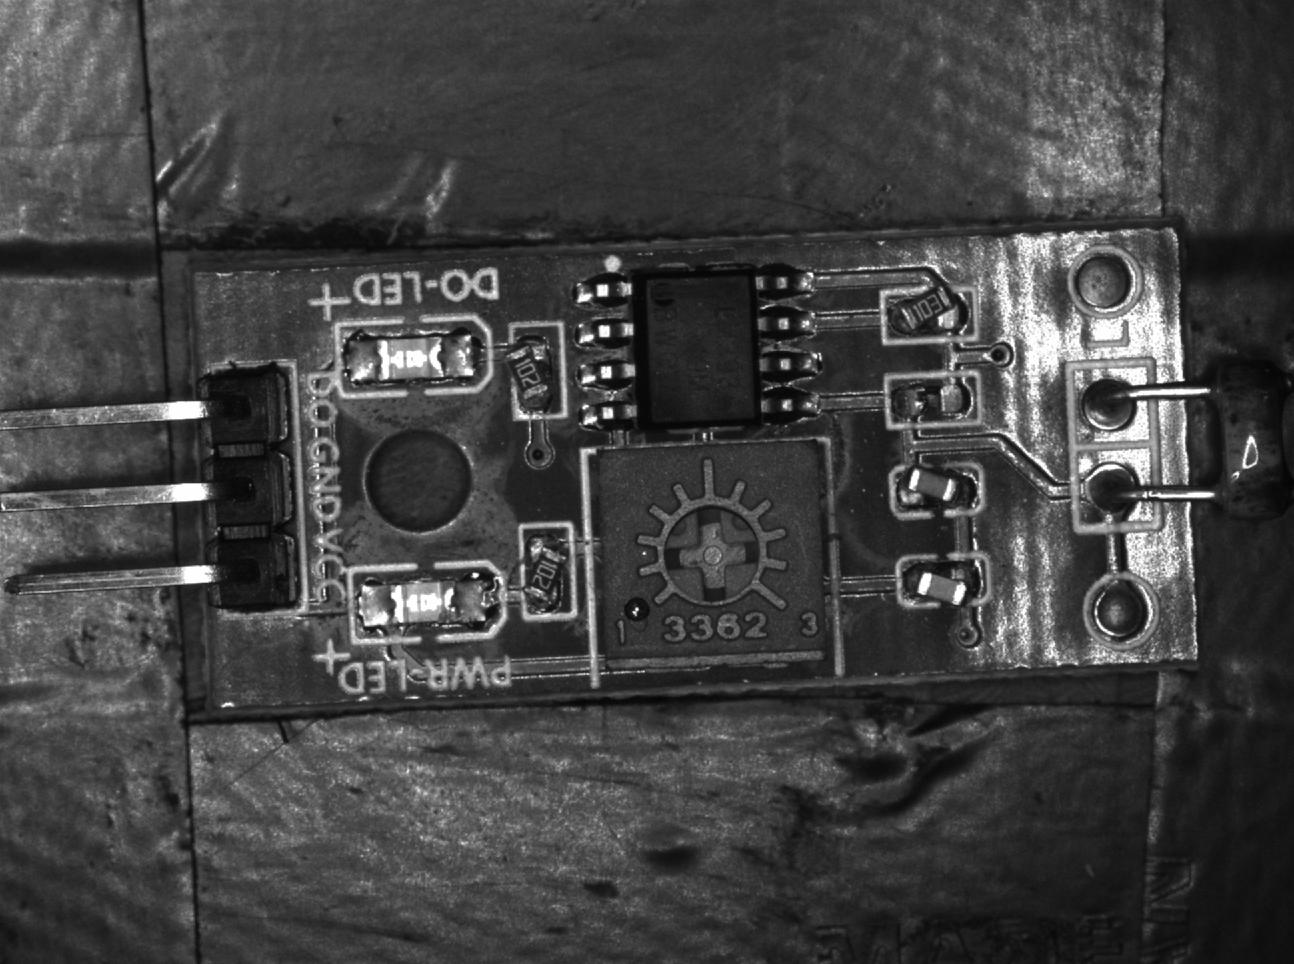bridge: (890, 375, 981, 425)
lifted: (890, 554, 993, 613), (884, 286, 981, 345), (519, 527, 576, 619), (509, 323, 563, 420), (890, 467, 983, 518)
